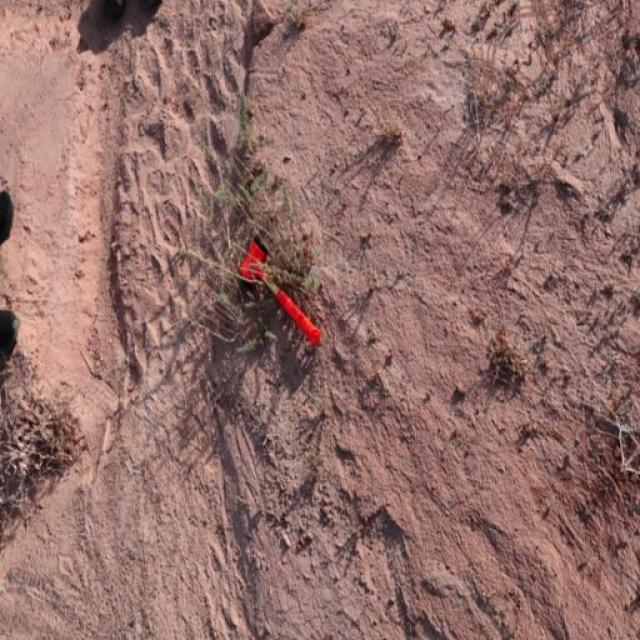mallet: (236, 234, 322, 348)
